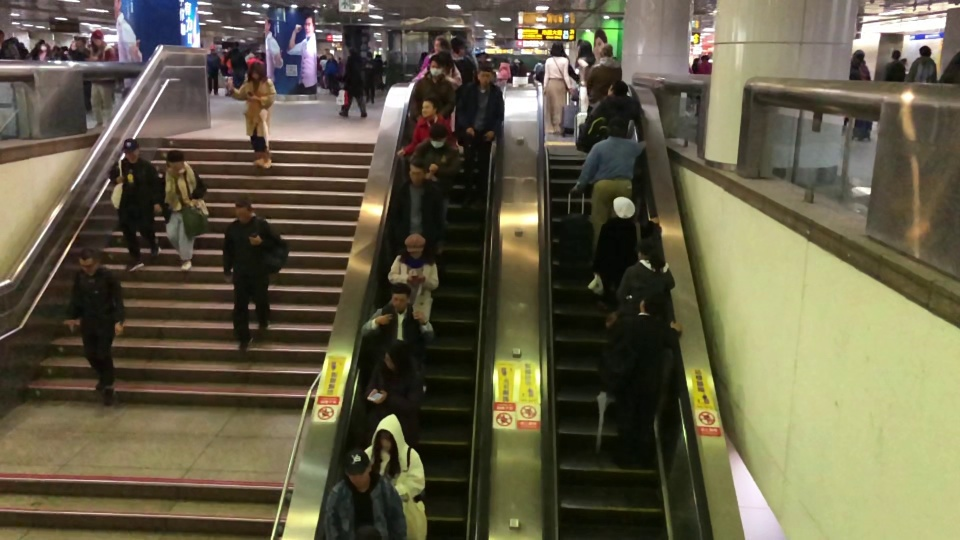person_head: (343, 447, 372, 490), (373, 413, 404, 453), (383, 337, 412, 372), (388, 282, 412, 312), (77, 246, 100, 277), (637, 293, 663, 318), (612, 195, 636, 221), (403, 233, 426, 260), (407, 156, 427, 187), (635, 235, 657, 262), (427, 122, 448, 150), (234, 196, 254, 225), (420, 93, 443, 118), (606, 114, 628, 140), (475, 63, 494, 89), (353, 524, 383, 540), (122, 138, 140, 164), (165, 149, 185, 172), (606, 79, 629, 97), (246, 61, 266, 81), (428, 54, 445, 76), (437, 49, 453, 68), (90, 28, 105, 47), (432, 34, 447, 53), (577, 40, 592, 58), (450, 37, 464, 56), (549, 41, 565, 57), (599, 43, 613, 59), (852, 48, 866, 64), (74, 36, 87, 51), (918, 45, 932, 57), (39, 41, 50, 53), (35, 38, 46, 49), (890, 49, 901, 60), (477, 51, 487, 62), (0, 29, 6, 47), (69, 40, 78, 51), (364, 50, 372, 62), (348, 47, 358, 56), (899, 56, 908, 66), (701, 54, 710, 63), (208, 44, 216, 54), (499, 55, 509, 63), (245, 47, 253, 55), (233, 40, 239, 50), (326, 52, 333, 60), (222, 48, 228, 57), (324, 47, 330, 56), (374, 53, 381, 60), (513, 57, 520, 64), (692, 57, 699, 64), (540, 57, 546, 64), (337, 56, 341, 62)
person_vbox: (602, 294, 682, 470), (570, 113, 647, 262), (63, 247, 125, 407), (221, 196, 273, 354), (591, 195, 660, 312), (323, 447, 407, 540), (408, 122, 461, 255), (108, 138, 160, 273), (459, 63, 505, 210), (363, 337, 424, 447), (157, 149, 207, 271), (359, 282, 435, 362), (363, 413, 426, 503), (388, 156, 445, 255), (227, 61, 277, 169), (386, 233, 439, 323), (613, 235, 676, 307), (396, 93, 458, 156), (420, 49, 462, 133), (584, 78, 641, 139), (84, 28, 116, 127), (541, 41, 574, 137), (410, 54, 456, 122), (839, 48, 871, 138), (586, 43, 622, 118), (338, 47, 368, 118), (450, 37, 477, 103), (70, 36, 91, 112), (574, 40, 596, 112), (413, 34, 447, 80), (223, 40, 248, 88), (906, 45, 937, 83), (694, 53, 712, 118), (362, 50, 376, 106), (883, 48, 906, 82), (206, 44, 221, 96), (938, 50, 960, 84), (219, 48, 233, 98), (324, 52, 338, 97), (0, 29, 20, 60), (34, 41, 55, 61), (27, 38, 46, 60), (244, 47, 264, 67), (496, 55, 511, 81), (373, 53, 383, 90), (507, 57, 521, 83), (62, 40, 78, 60), (319, 47, 331, 71), (533, 57, 546, 79), (316, 56, 323, 85), (691, 58, 699, 74), (337, 56, 343, 76), (259, 50, 266, 59)
